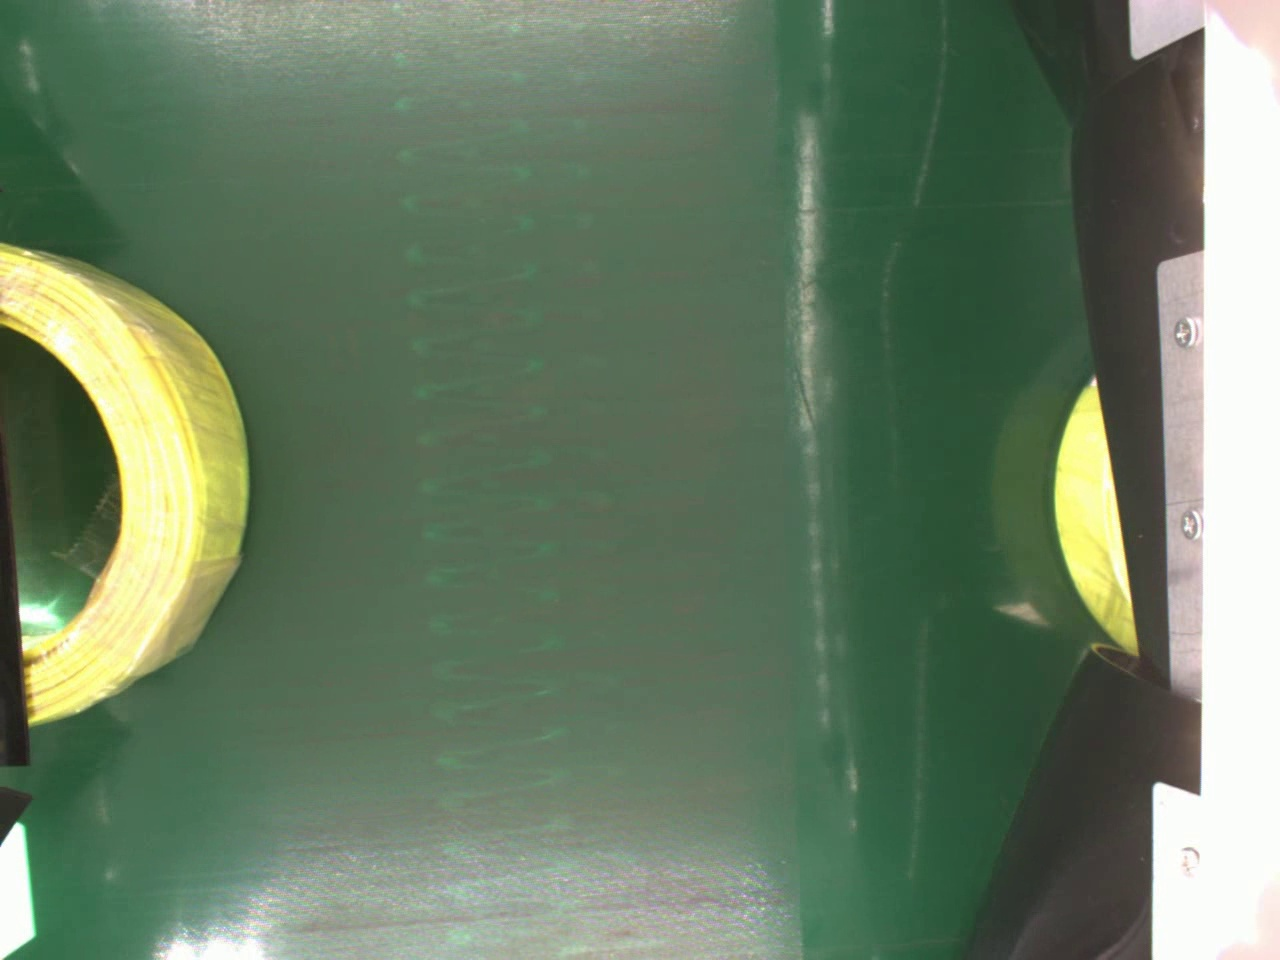yellow: (0, 237, 253, 728)
